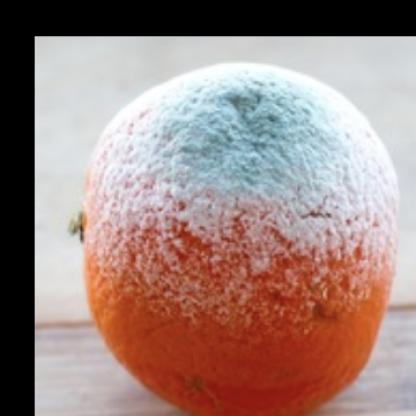rotten: (79, 63, 403, 416)
